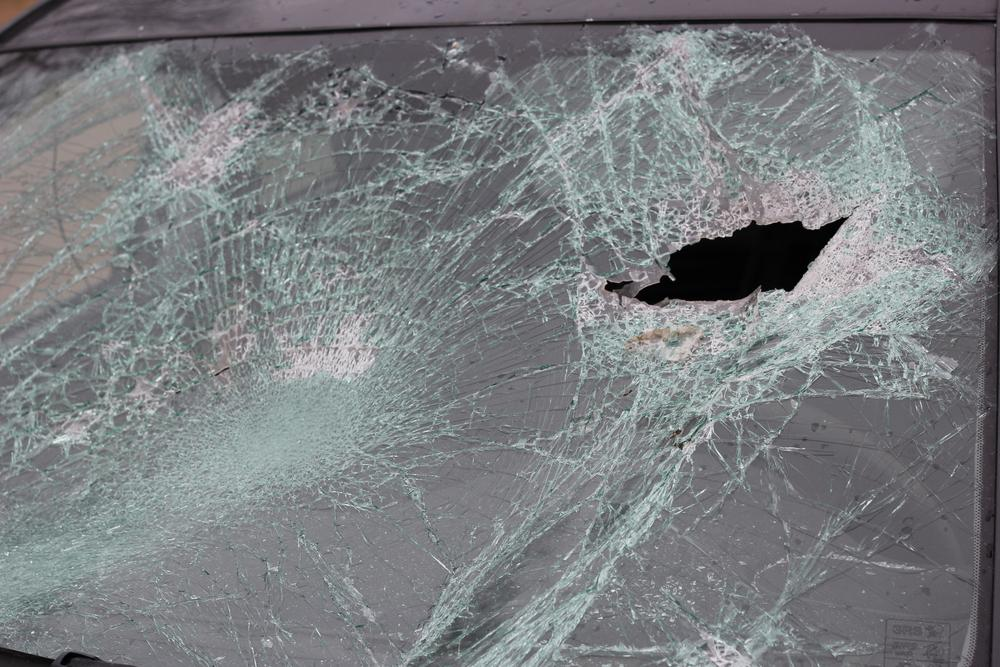glass shatter: (0, 20, 998, 667)
